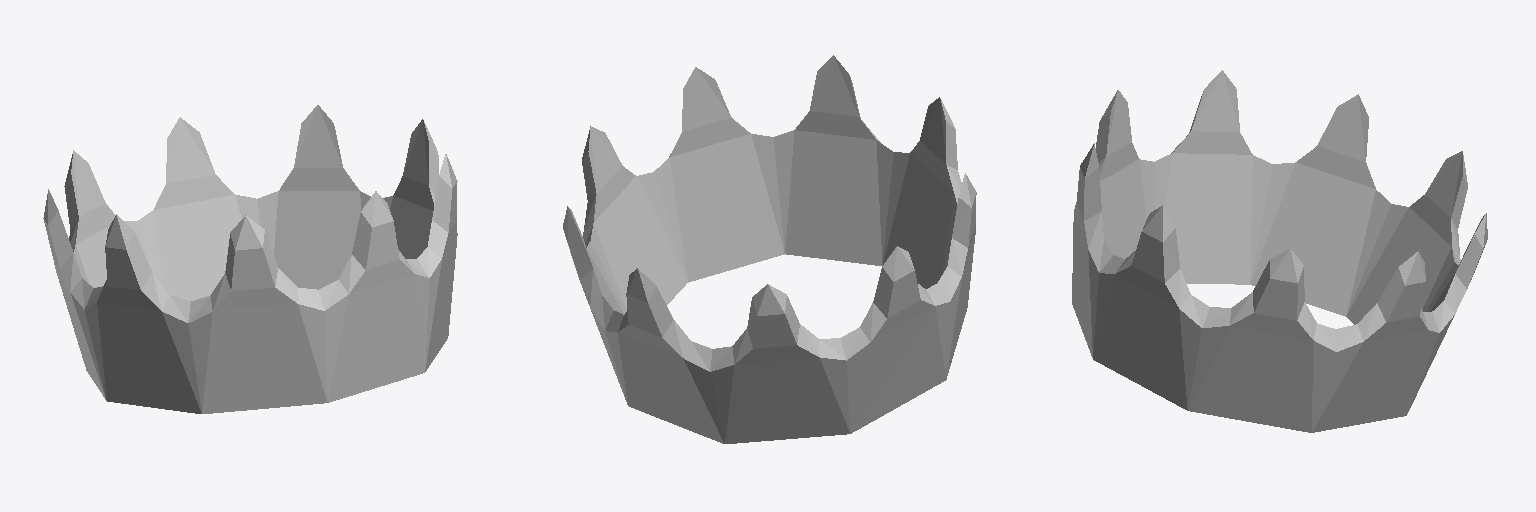
Rendered from Crown.obj.
The picture shows the model from 3 angles: view 1: azimuth 30°, elevation 25°; view 2: azimuth 150°, elevation 25°; view 3: azimuth 270°, elevation 25°; orthographic projection.
Visible parts, largest first — view 1: Crown; view 2: Crown; view 3: Crown.
Boxes of the visible parts, <box> form: Crown: <box>43,105,457,413</box>; Crown: <box>563,55,976,443</box>; Crown: <box>1072,70,1487,432</box>.
Bounding box in the file's own units: 0.7275 × 0.4956 × 0.739.